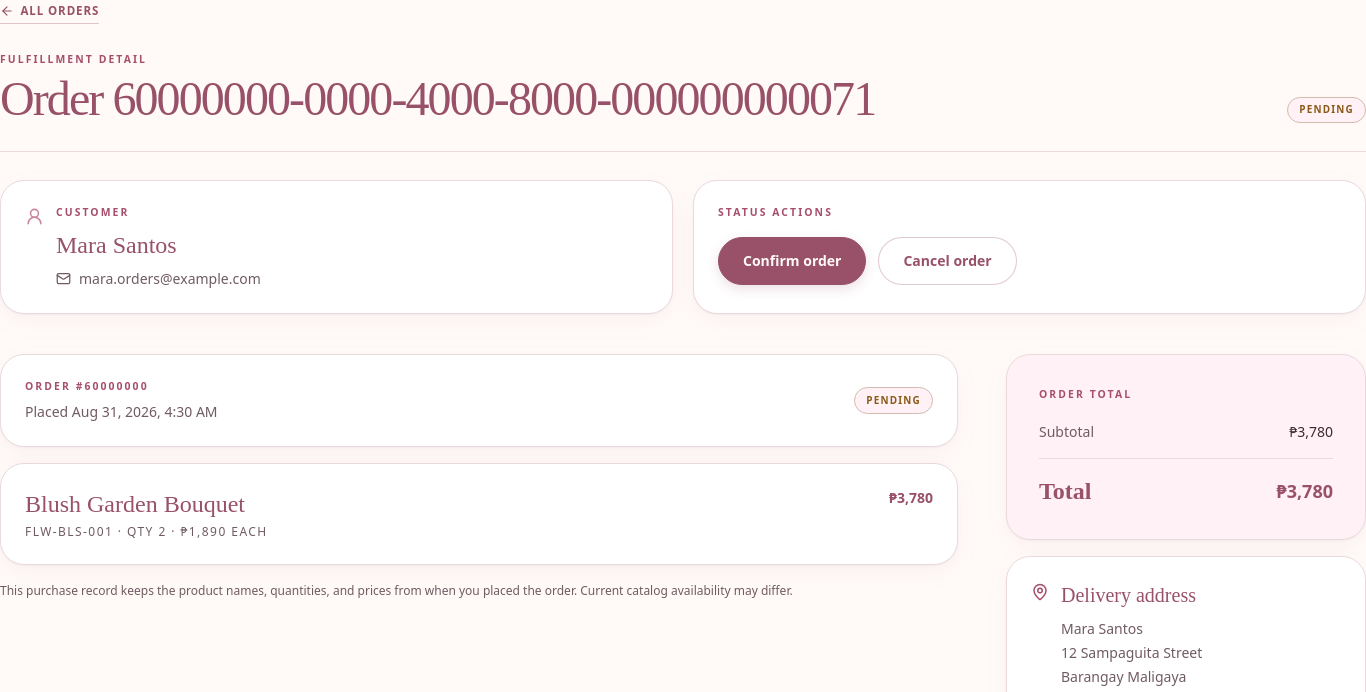
Test: admin order flows › shows only legal next states and refreshes the detail after an update
Expected: the link "mara.orders@example.com" is shown, [56,269,261,289]
Expected: the text "Blush Garden Bouquet" is shown, [25,491,245,517]
Click the button "Confirm order" at [792, 261], box [718,237,866,285]
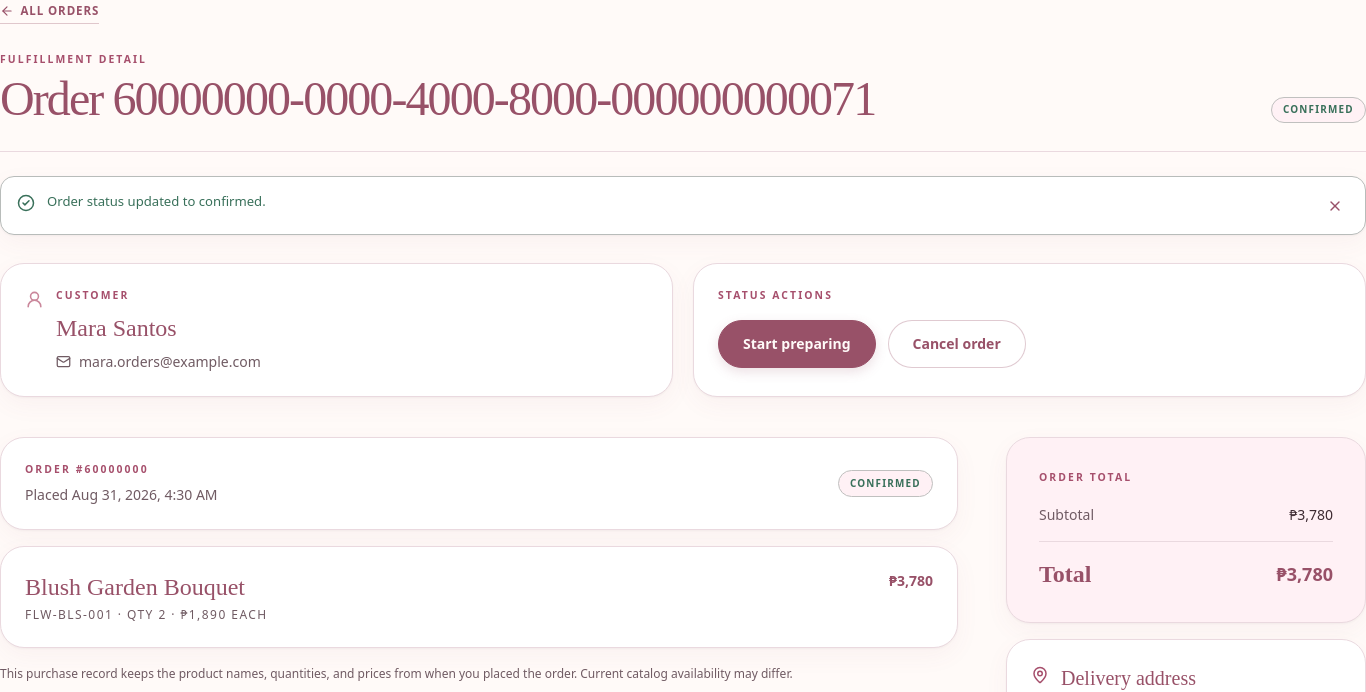
Expected: the text "Order status updated to confirmed." is shown, [47,192,266,210]
Expected: the button "Start preparing" is shown, [718,320,876,368]
Click the button "Cancel order" at [957, 344], box [888,320,1026,368]
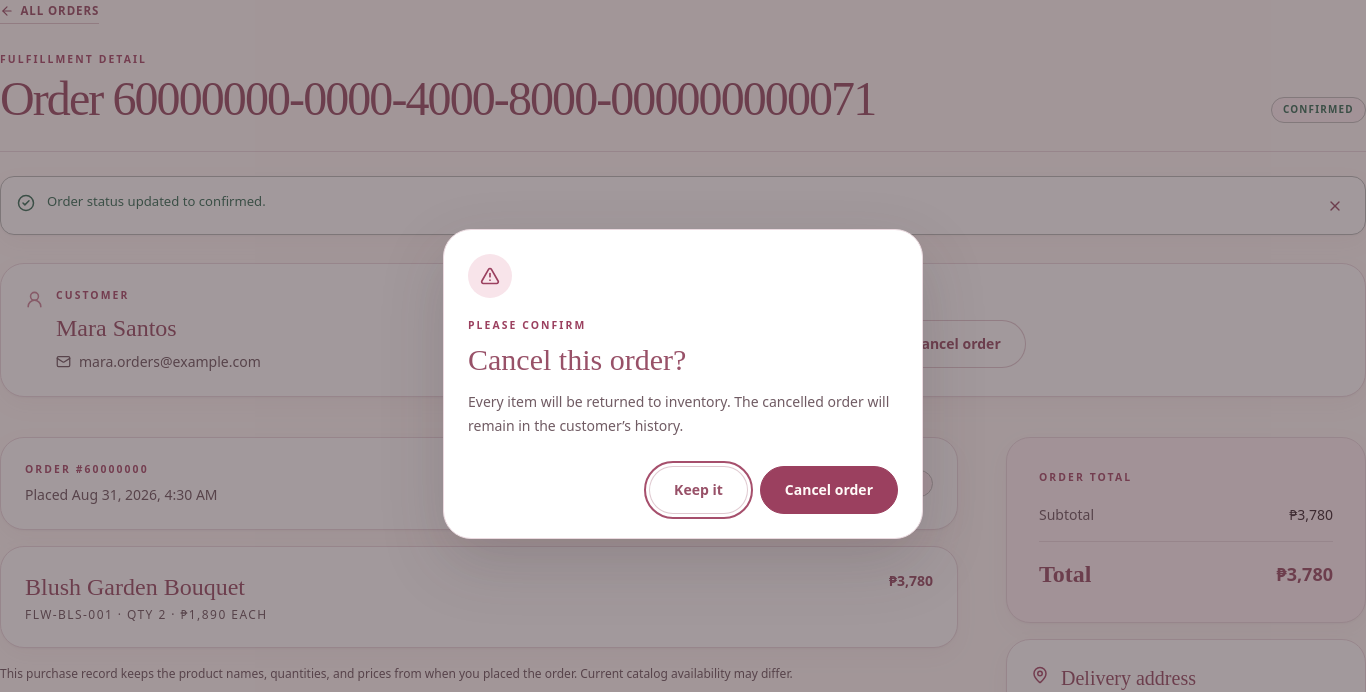
Expected: the dialog "Cancel this order?" shows "returned to inventory", [468,392,889,435]
Click the button "Cancel order" at [829, 490], box [760,466,898,514]
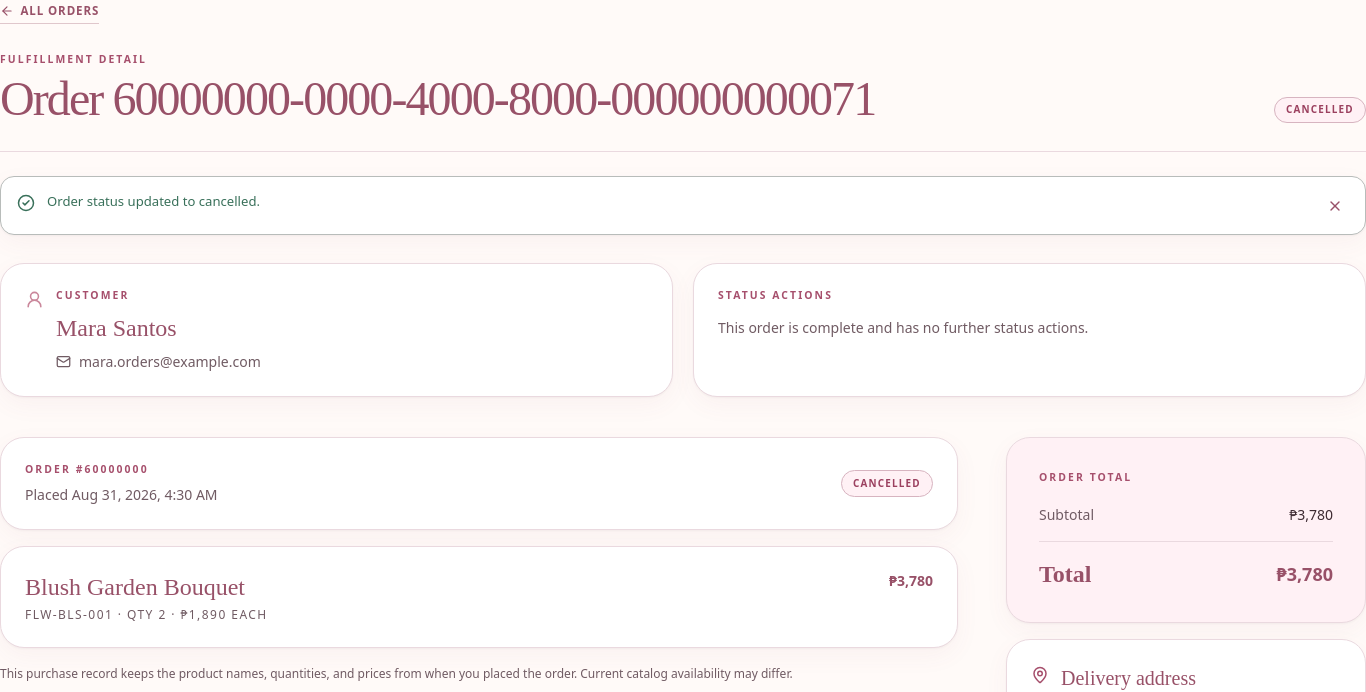
Expected: the text "Order status updated to cancelled." is shown, [47,192,260,210]
